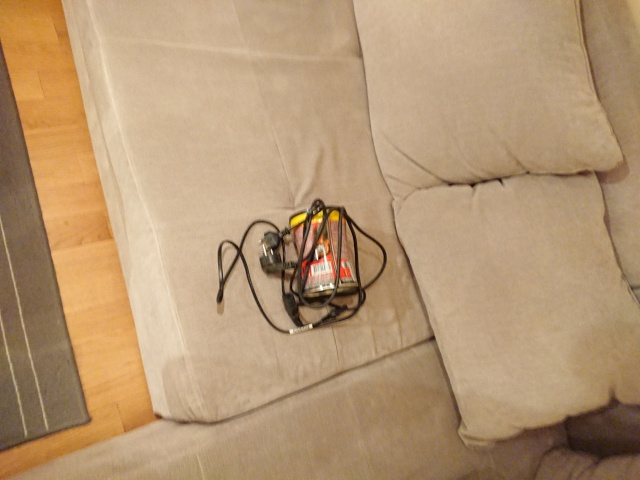Nescafe Classic 225g: (286, 205, 364, 302)
